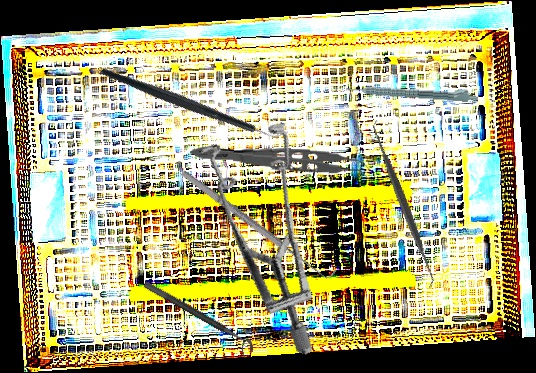Chopper: (98, 10, 291, 194)
Fixation Ring: (138, 280, 257, 360)
Handpiece: (345, 79, 479, 103)
Hook Surgical: (178, 162, 338, 286)
Spatula Surgical: (317, 119, 490, 289)
Speculum: (150, 101, 375, 357)
Tissue Forceps: (189, 143, 373, 182)
